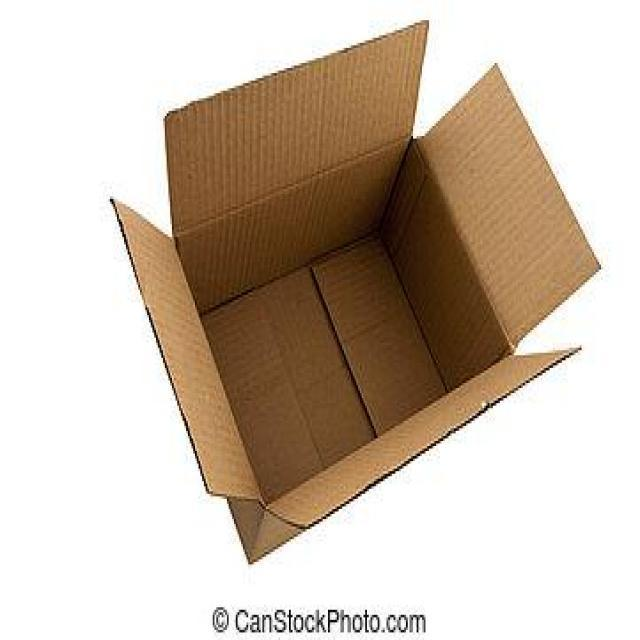box: (110, 19, 598, 560)
